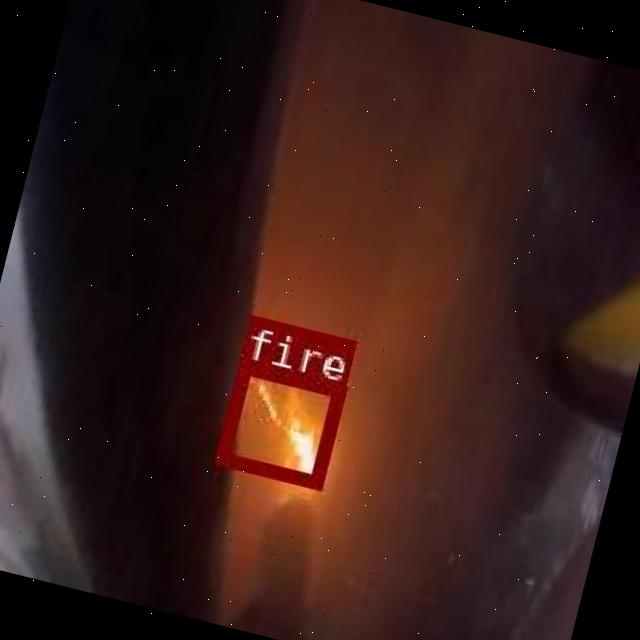fire: (212, 358, 343, 486)
